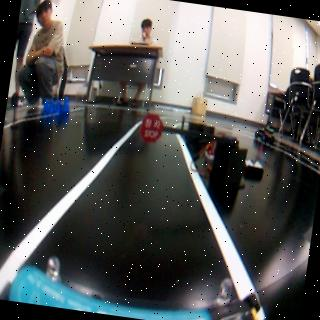stop: (139, 111, 165, 142)
